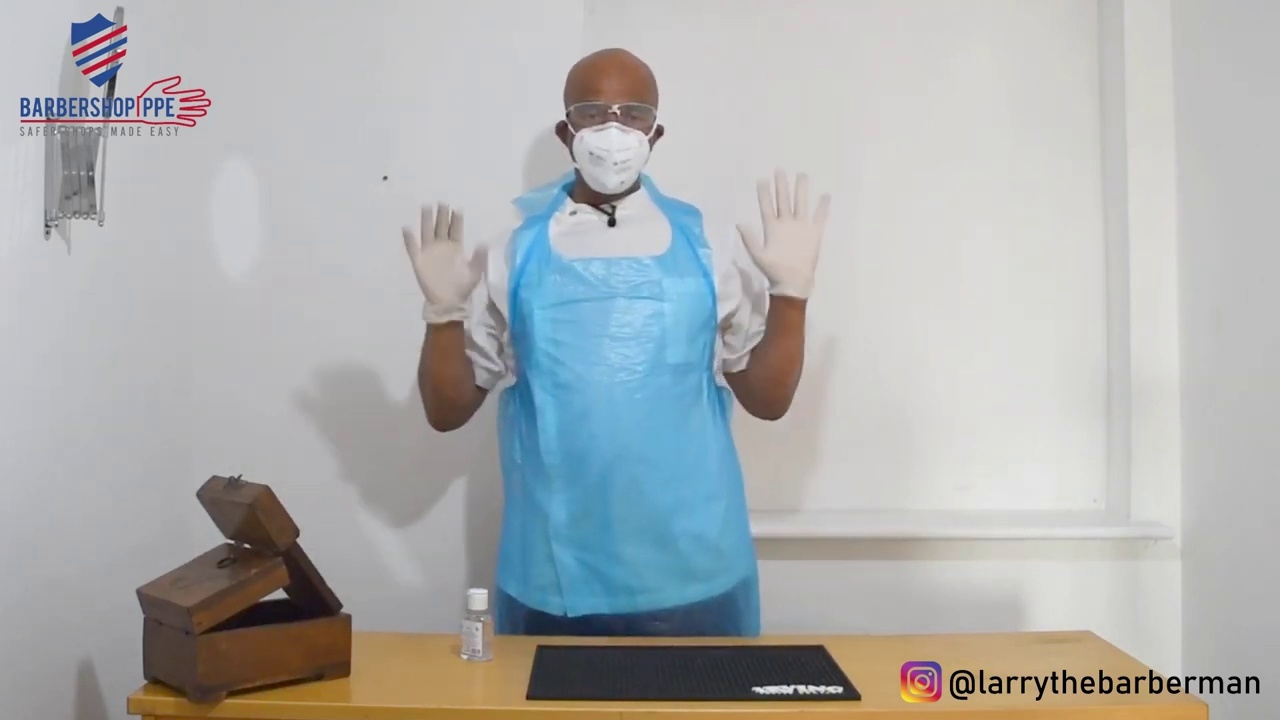Apron: (492, 172, 742, 654)
Glove: (732, 171, 871, 301), (368, 201, 508, 319)
Mask: (519, 121, 681, 198)
No_Hairnet: (546, 43, 683, 96)
